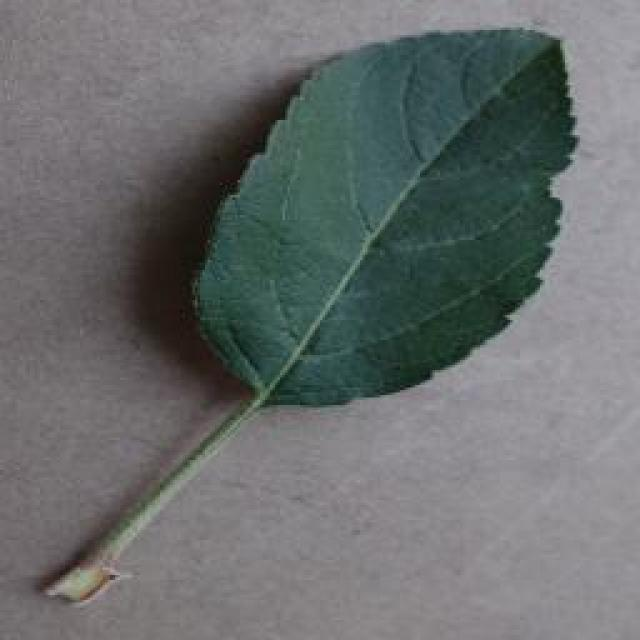apple healthy: (38, 23, 580, 605)
